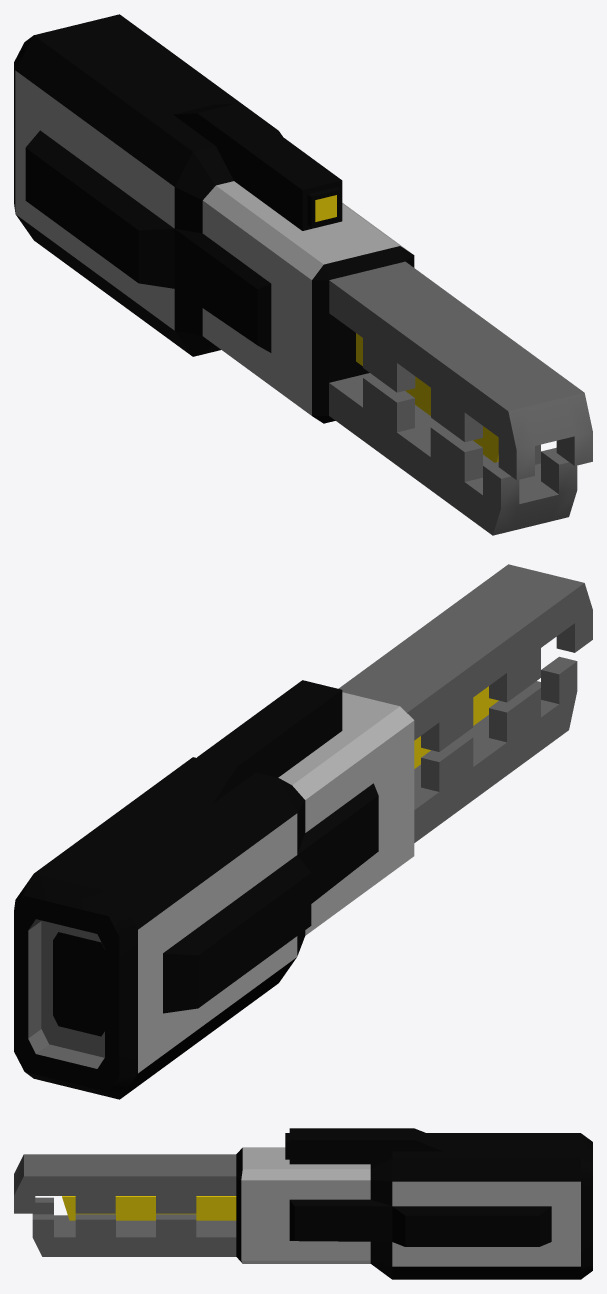
File: sentouki_ieam_canon.fbx
The picture shows the model from 3 angles, top to bottom: view 1: azimuth 30°, elevation 25°; view 2: azimuth 150°, elevation 25°; view 3: azimuth 270°, elevation 25°; orthographic projection. The views are drawn at different scales.
Parts seen in each view (by area): view 1: polySurface90; view 2: polySurface90; view 3: polySurface90.
Boxes of the visible parts, left/top/right/bottom form: polySurface90: left=14, top=14, right=592, bottom=535; polySurface90: left=14, top=564, right=592, bottom=1099; polySurface90: left=14, top=1128, right=592, bottom=1279.
Size of the model in its own units: 68.07 by 84.52 by 333.
